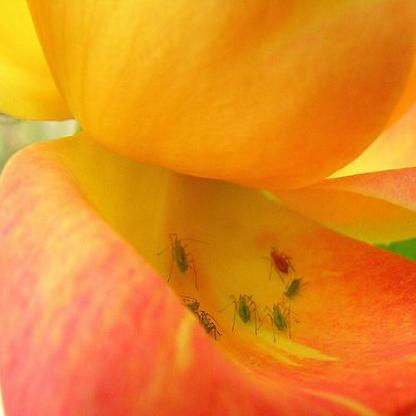aphid: (160, 223, 204, 291), (267, 300, 299, 342), (228, 293, 261, 332), (264, 245, 295, 276), (284, 263, 305, 303), (199, 312, 222, 343), (183, 291, 203, 319)
